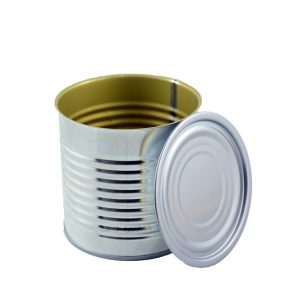metal: (54, 72, 253, 270)
